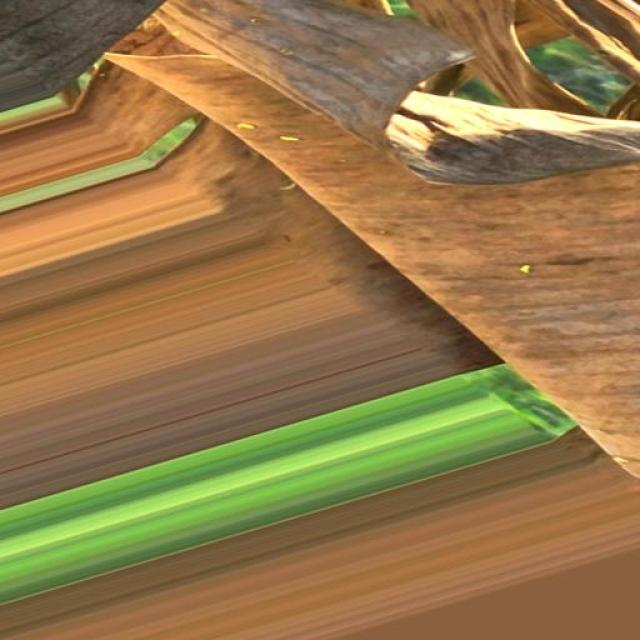Bract_mosaic_virus: (100, 0, 640, 491)
